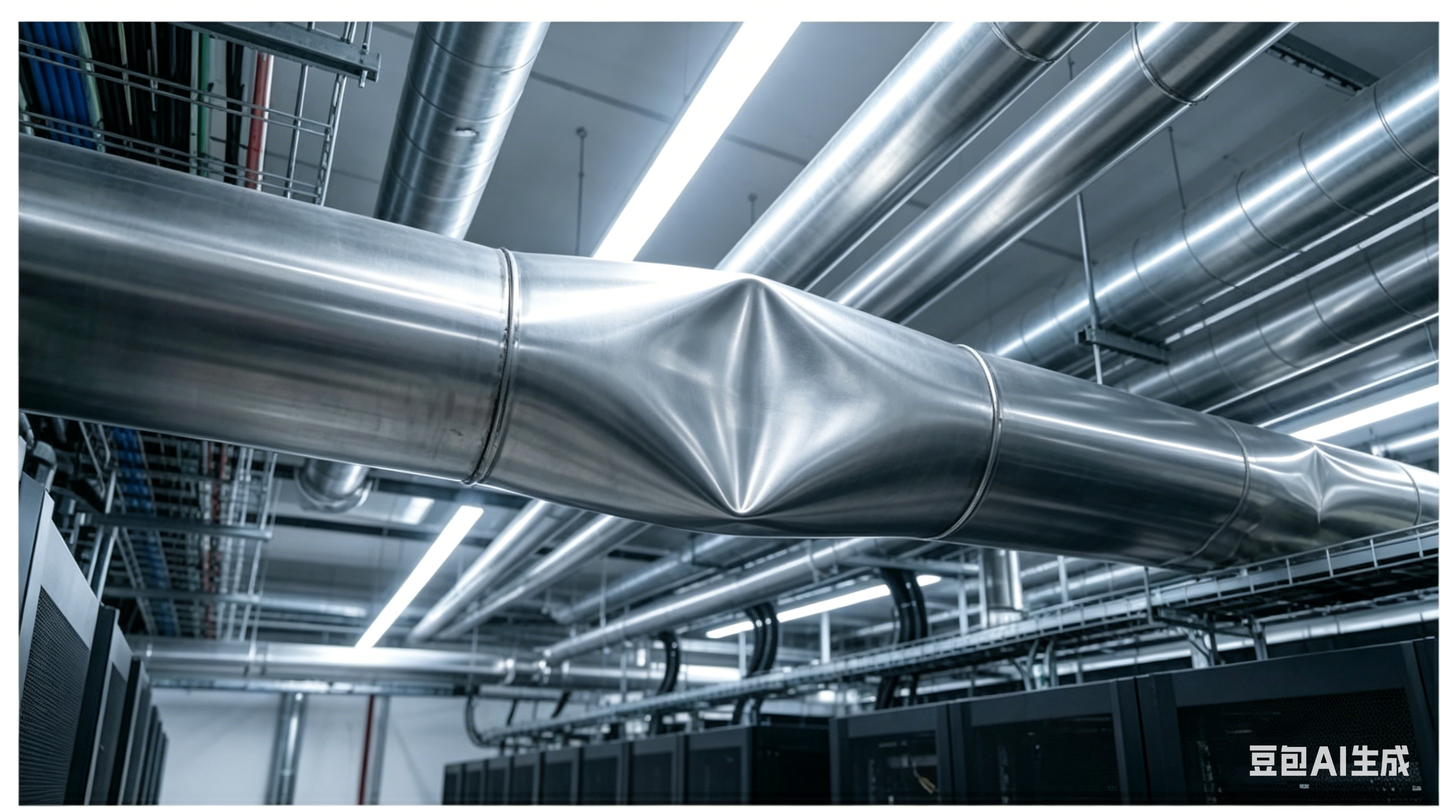Leakage: (551, 266, 959, 537), (1244, 433, 1416, 525)
